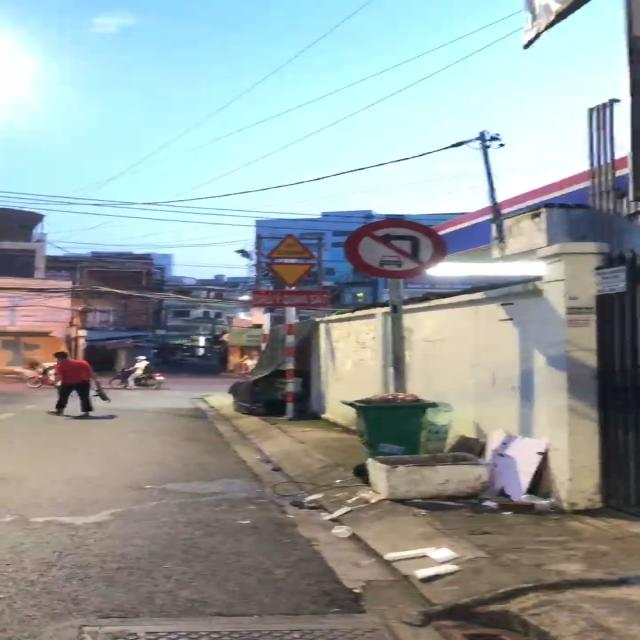Bien bao cam xe o to re trai: (341, 217, 457, 281)
Bien bao giao nhau voi duong uu tien: (262, 260, 315, 290)
